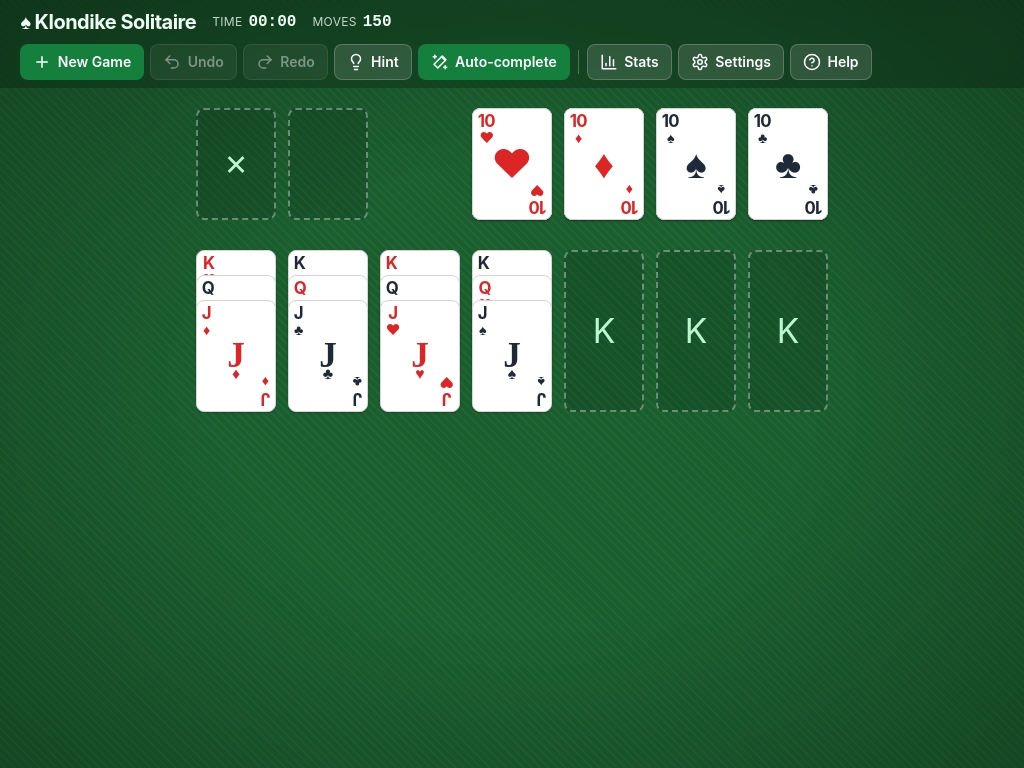
Test case: App integration › shows the win dialog and auto-completes
The image size is (1024, 768).
Click the button with aria-label "Auto-complete" at (494, 62), box [418, 44, 570, 80]
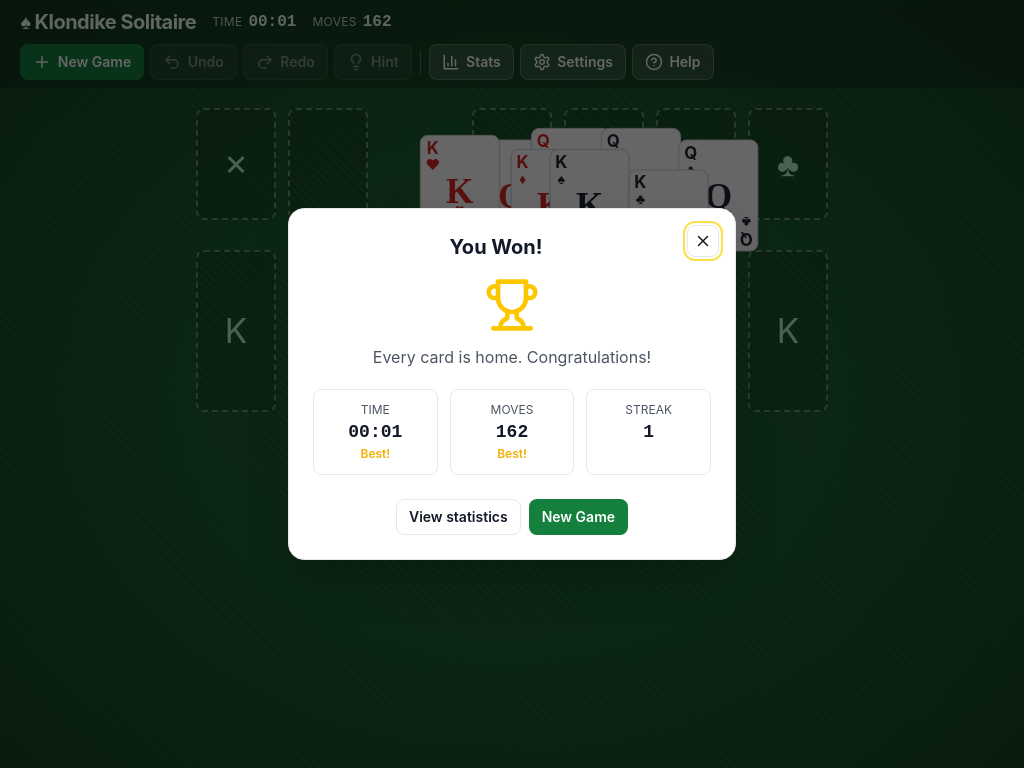
Result: the element with class "win-modal" is shown at [288, 208, 736, 560]
Result: the element with class "win-modal" shows "You Won!" at [449, 235, 542, 259]
